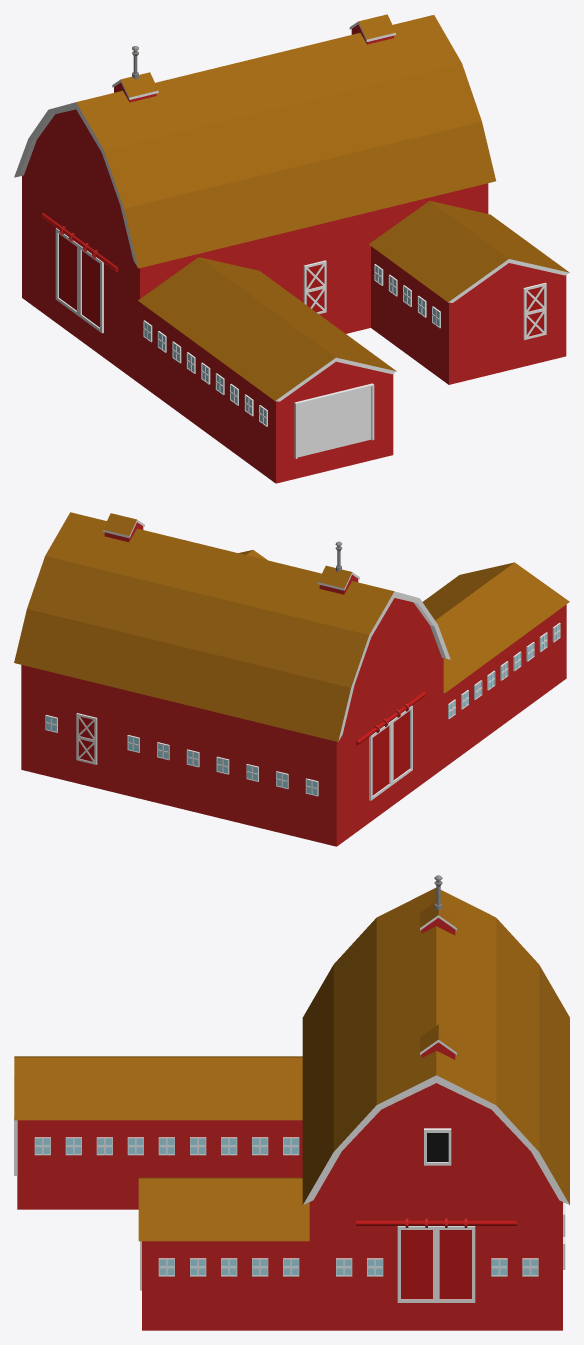
Rendered from house_1.fbx.
The picture shows the model from 3 angles, top to bottom: view 1: azimuth 30°, elevation 25°; view 2: azimuth 150°, elevation 25°; view 3: azimuth 270°, elevation 25°; orthographic projection. The views are drawn at different scales.
Visible parts, largest first — view 1: Ground.001; view 2: Ground.001; view 3: Ground.001.
Boxes of the visible parts, <box> form: Ground.001: <box>14,14,569,483</box>; Ground.001: <box>14,512,569,846</box>; Ground.001: <box>14,875,569,1330</box>.
Size of the model in its own units: 116 by 86.54 by 145.
